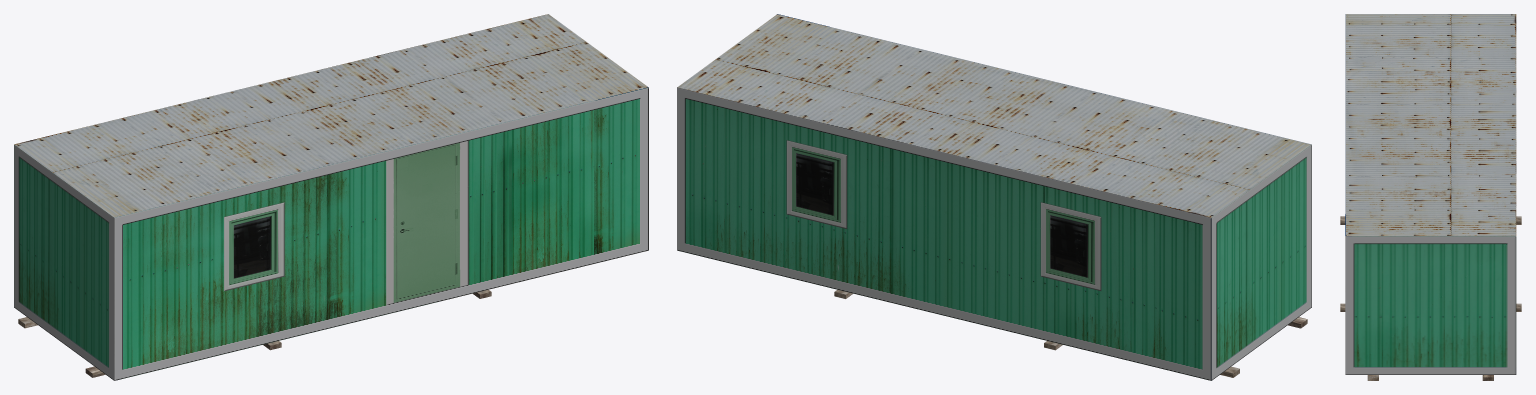
File: ContainerHouse24.FBX
3 renders of one model, left to right at view 1: azimuth 30°, elevation 25°; view 2: azimuth 150°, elevation 25°; view 3: azimuth 270°, elevation 25°, orthographic. The views are drawn at different scales.
Parts seen in each view (by area): view 1: ContainerHouse24, ContainerHouse24wood; view 2: ContainerHouse24, ContainerHouse24wood; view 3: ContainerHouse24, ContainerHouse24wood.
Boxes of the visible parts, x1,y1,x2,y2 form: ContainerHouse24: (14, 14, 648, 380); ContainerHouse24wood: (18, 289, 491, 377); ContainerHouse24: (677, 14, 1311, 380); ContainerHouse24wood: (834, 289, 1307, 377); ContainerHouse24: (1345, 14, 1516, 374); ContainerHouse24wood: (1340, 216, 1521, 380).
Size of the model in its own units: 372 by 109 by 125.
